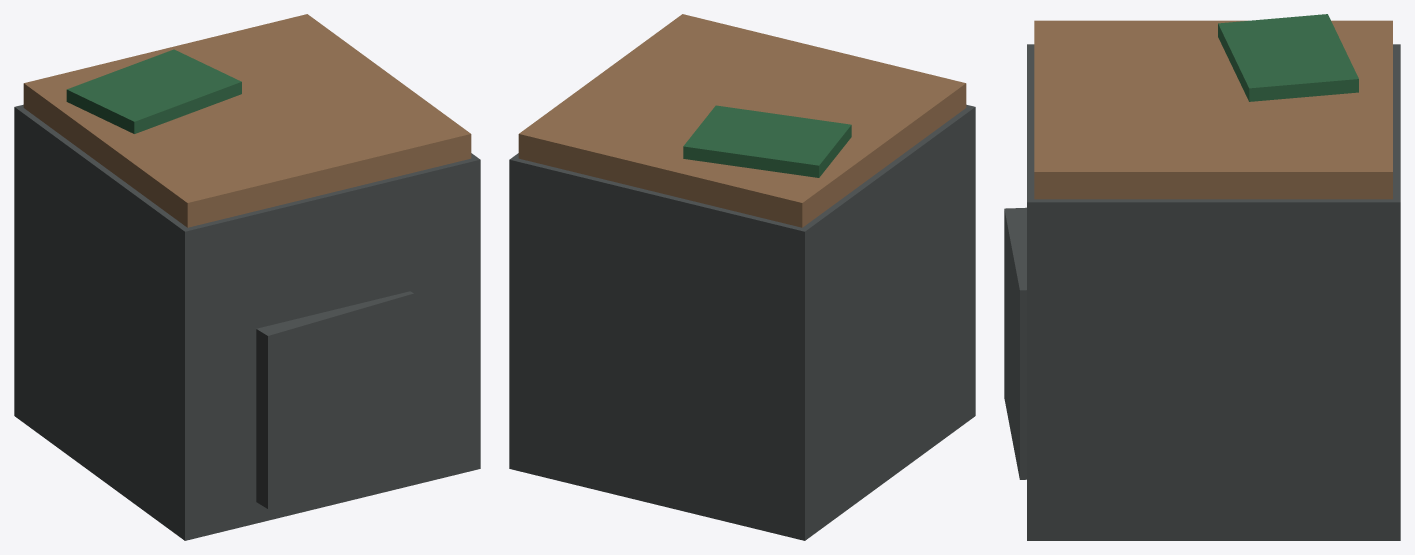
File: df_cliff_side_a.glb
3 views of the same model, side by side, from view 1: azimuth 30°, elevation 25°; view 2: azimuth 150°, elevation 25°; view 3: azimuth 270°, elevation 25° (orthographic). The views are drawn at different scales.
Parts seen in each view (by area): view 1: mass, mud_cap, front_break, moss; view 2: mass, mud_cap, moss; view 3: mass, mud_cap, moss, front_break.
Part boxes in pixels (left/top/right/bottom): mass: left=14, top=104, right=480, bottom=540; mud_cap: left=23, top=14, right=471, bottom=227; front_break: left=256, top=291, right=413, bottom=508; moss: left=66, top=49, right=241, bottom=133; mass: left=509, top=104, right=975, bottom=540; mud_cap: left=518, top=14, right=966, bottom=227; moss: left=683, top=105, right=851, bottom=177; mass: left=1027, top=44, right=1400, bottom=540; mud_cap: left=1034, top=20, right=1392, bottom=199; moss: left=1218, top=14, right=1358, bottom=101; front_break: left=1004, top=207, right=1026, bottom=479.
Bounding box in the file's own units: 1 × 1.12 × 1.06.
